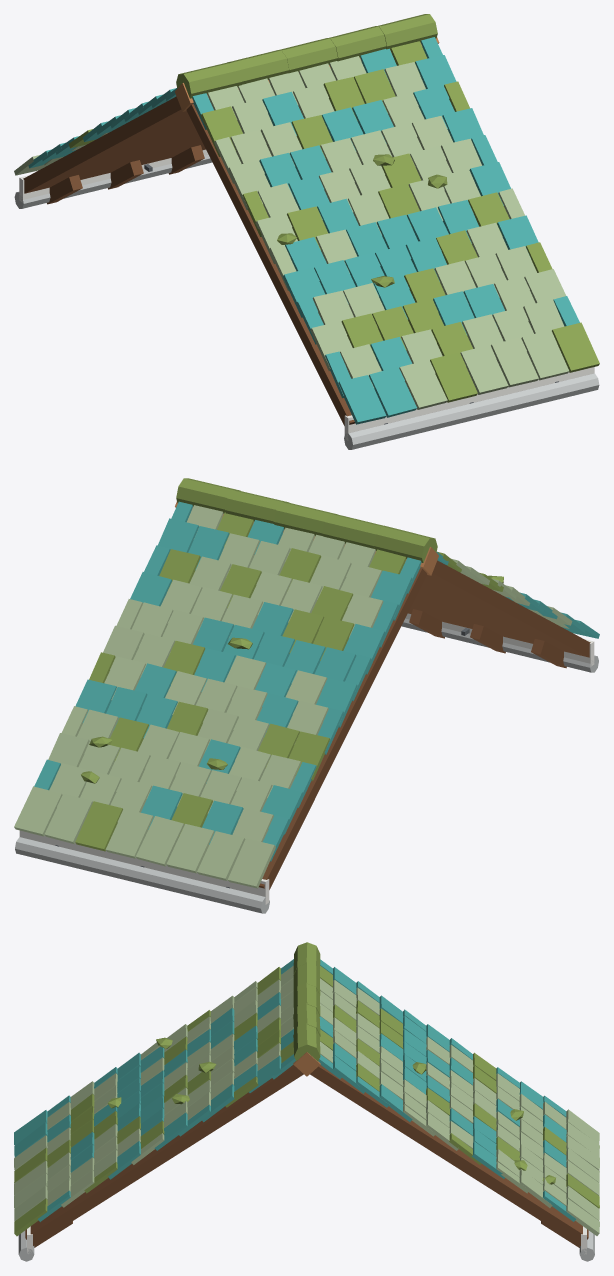
File: roof_module.glb
The picture shows the model from 3 angles, top to bottom: view 1: azimuth 30°, elevation 25°; view 2: azimuth 150°, elevation 25°; view 3: azimuth 270°, elevation 25°; orthographic projection. The views are drawn at different scales.
Visible parts, largest first — view 1: Roof Module; view 2: Roof Module; view 3: Roof Module.
Boxes of the visible parts, <box> form: Roof Module: <box>14,14,599,449</box>; Roof Module: <box>14,478,599,913</box>; Roof Module: <box>14,942,599,1261</box>.
Size of the model in its own units: 2.04 by 2.01 by 4.89.
1 material, 1 textured.
